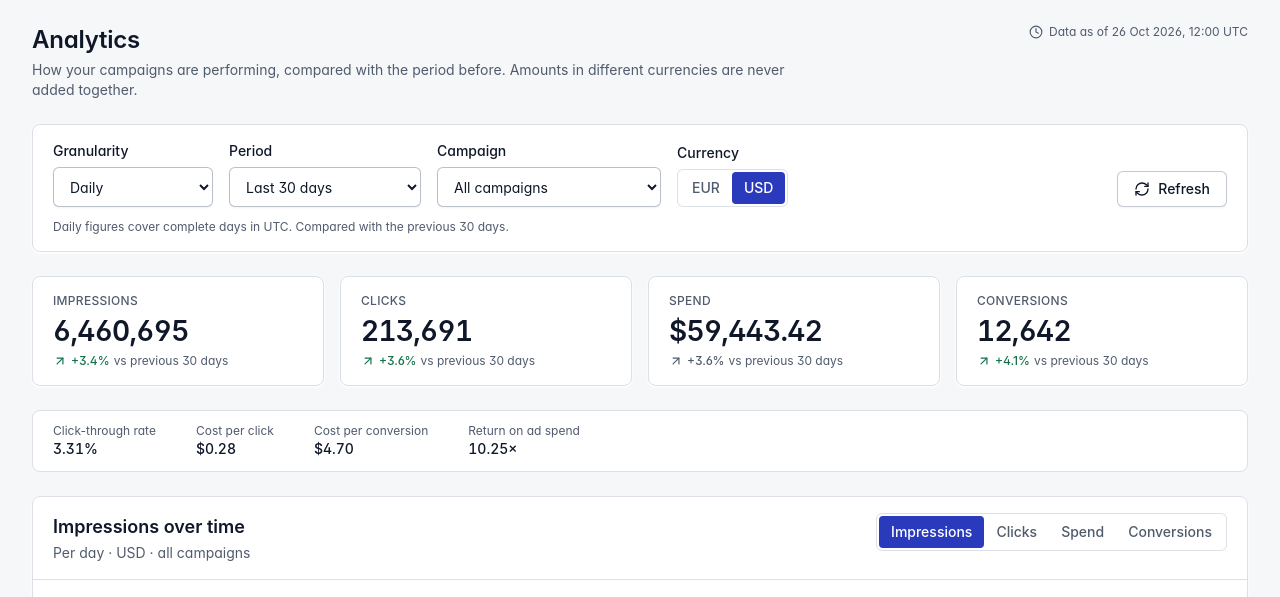
it: AnalyticsView › offers hourly granularity with its own periods
Select "Hourly" in the dropdown labelled "Granularity" at coordinates (133, 187), box 53,167 -> 213,207
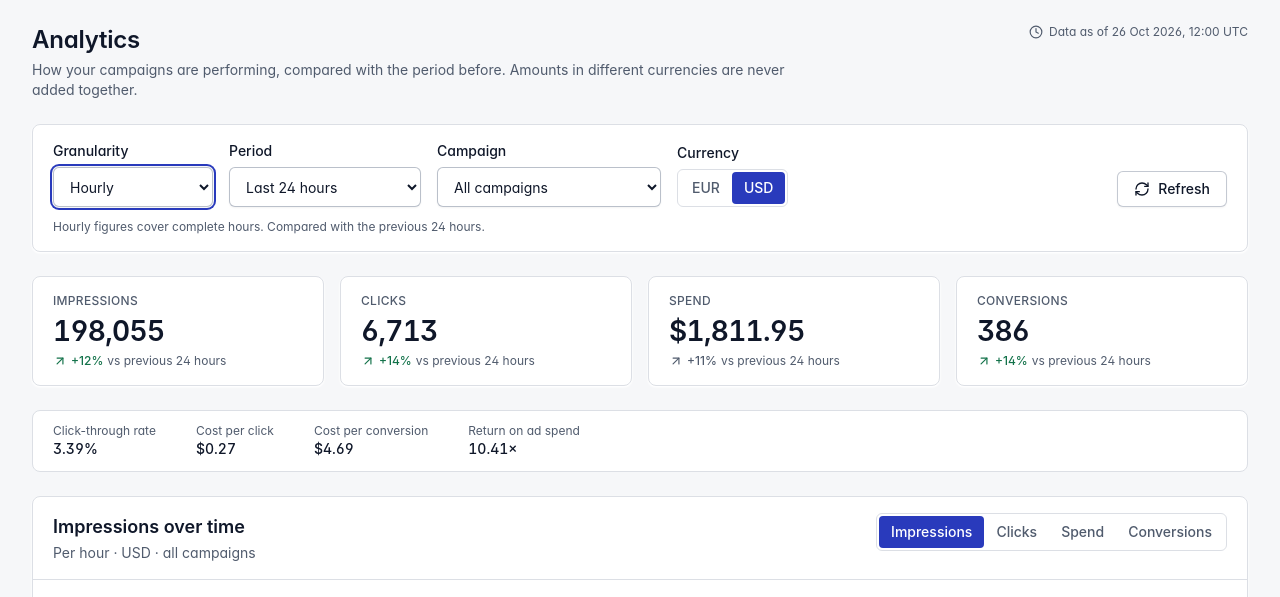
Check: the text "Hourly figures cover complete hours" is shown, box 53,219 -> 264,234
